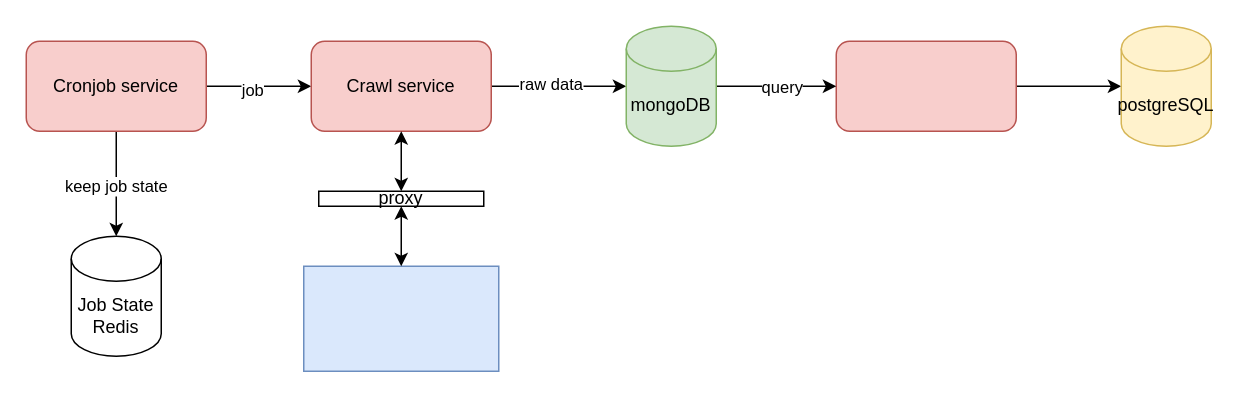
Some shapes in this 1241 by 398 pixel diagram are drawn without their labels. The centre of each missing label's shape, as x and y in pixels:
"e-commcerce website" belongs at (400,318).
"Transform service" belongs at (925,85).
